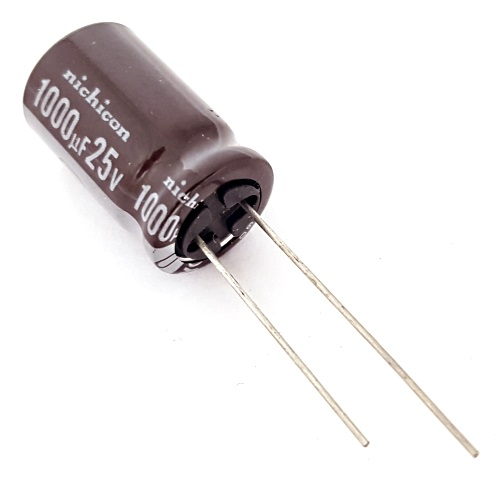capacitor: (8, 6, 375, 395)
